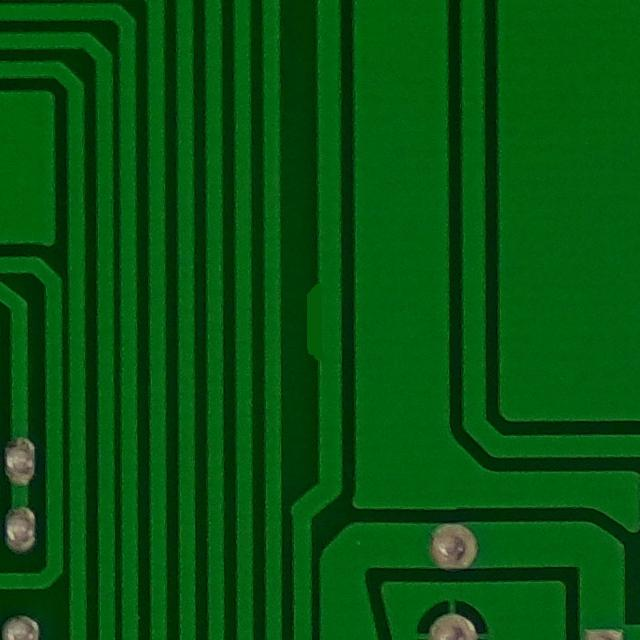spur: (298, 268, 342, 373)
